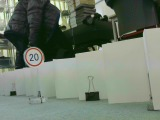speed_20: (22, 46, 46, 68)
